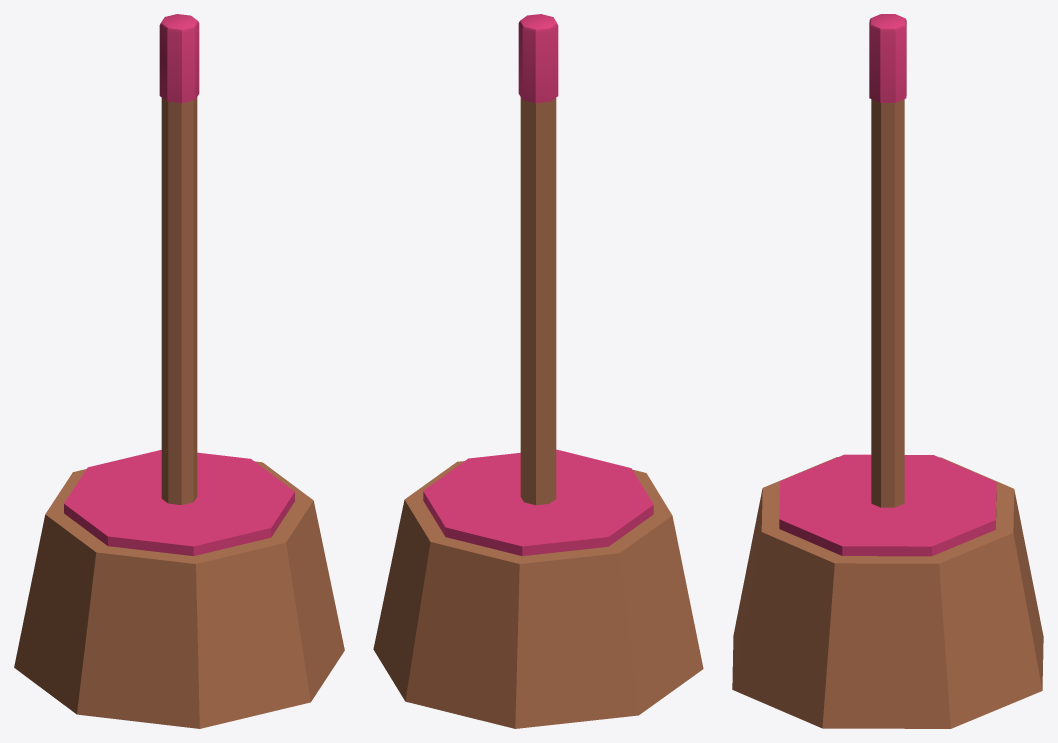
File: Toilet Brush_01.fbx
The picture shows the model from 3 angles, left to right: view 1: azimuth 30°, elevation 25°; view 2: azimuth 150°, elevation 25°; view 3: azimuth 270°, elevation 25°; orthographic projection.
Visible parts, largest first — view 1: Toilet Brush_01; view 2: Toilet Brush_01; view 3: Toilet Brush_01.
Boxes of the visible parts, <box> form: Toilet Brush_01: <box>14,14,344,728</box>; Toilet Brush_01: <box>373,14,703,728</box>; Toilet Brush_01: <box>732,14,1043,728</box>.
Size of the model in its own units: 26.63 by 60.67 by 26.63.
